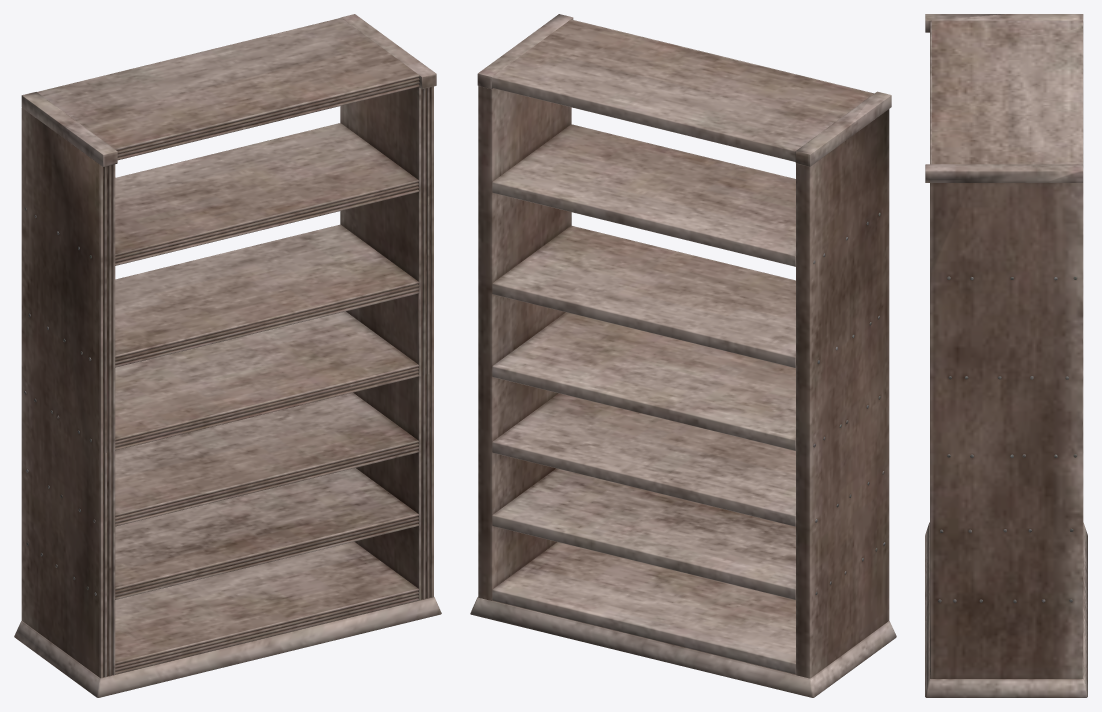
Rendered from wooden_bookshelf_worn.glb.
The picture shows the model from 3 angles, left to right: view 1: azimuth 30°, elevation 25°; view 2: azimuth 150°, elevation 25°; view 3: azimuth 270°, elevation 25°; orthographic projection. The views are drawn at different scales.
Visible parts, largest first — view 1: wooden_bookshelf_worn; view 2: wooden_bookshelf_worn; view 3: wooden_bookshelf_worn.
Boxes of the visible parts, x1,y1,x2,y2 form: wooden_bookshelf_worn: (14,14,441,697); wooden_bookshelf_worn: (470,14,896,697); wooden_bookshelf_worn: (925,14,1087,697).
Size of the model in its own units: 1.37 by 2.06 by 0.5814.
1 material, 1 textured.
